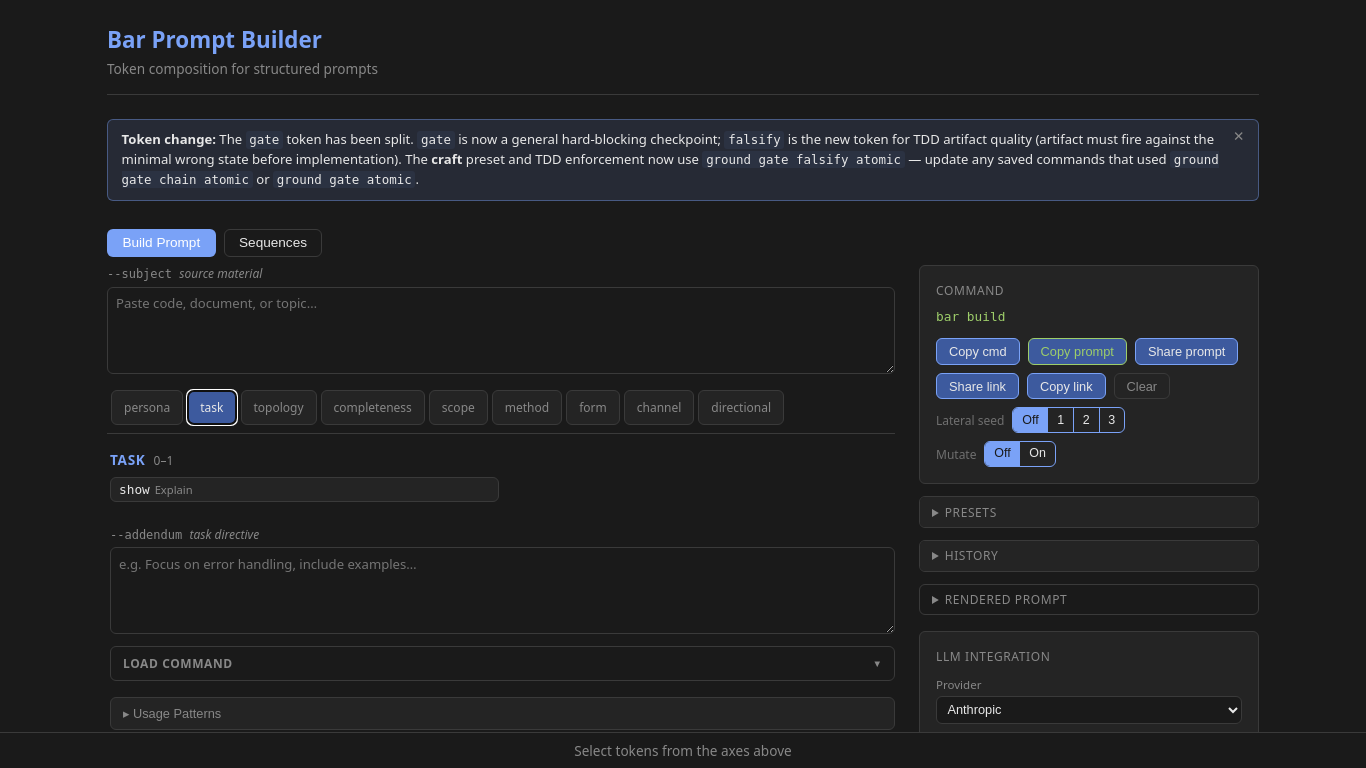
Test case: Page — Sequences mode › linear sequence shows pause indicator between steps requiring user input
The width and height of the screenshot is (1366, 768).
Click the button "Sequences" at (273, 243), box [224, 229, 322, 257]
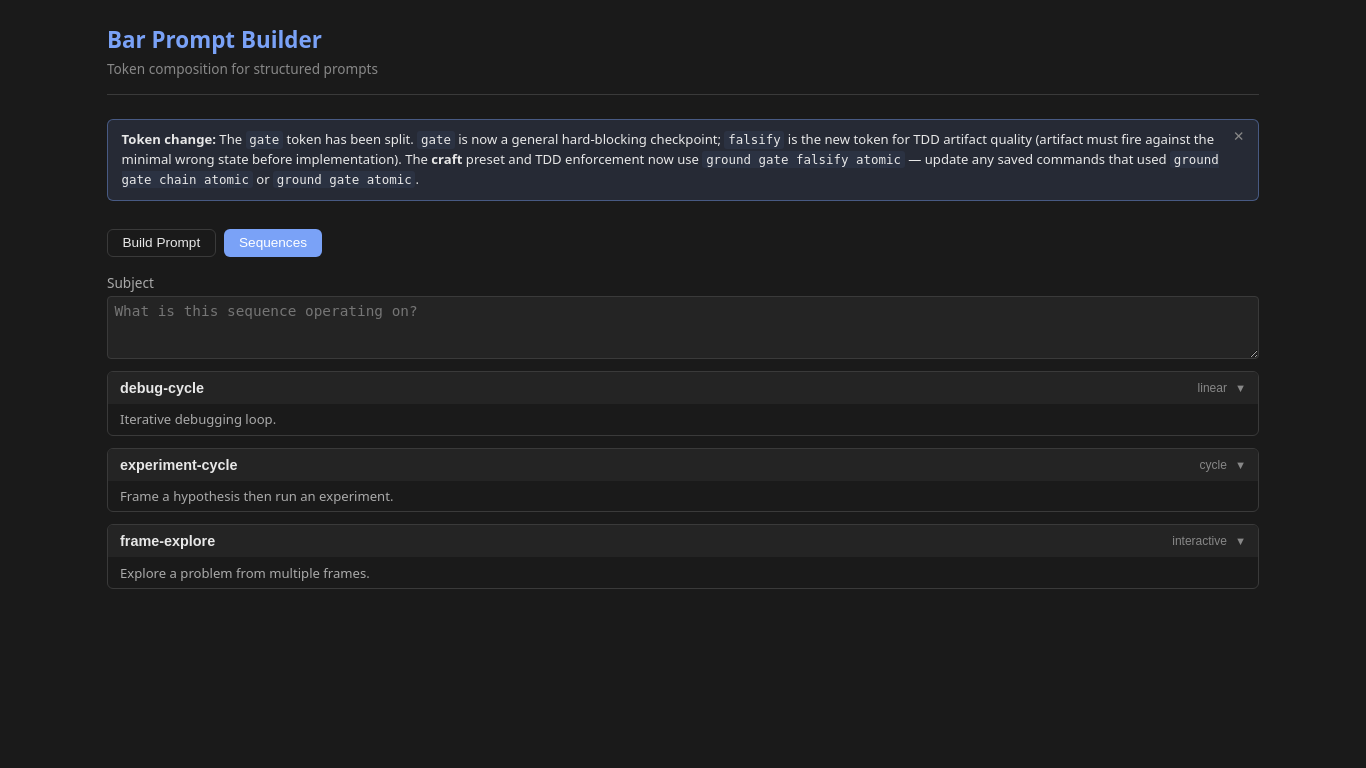
Click the button with class "seq-card-header" showing "debug-cycle linear ▼" at (162, 388), box [108, 372, 1258, 404]
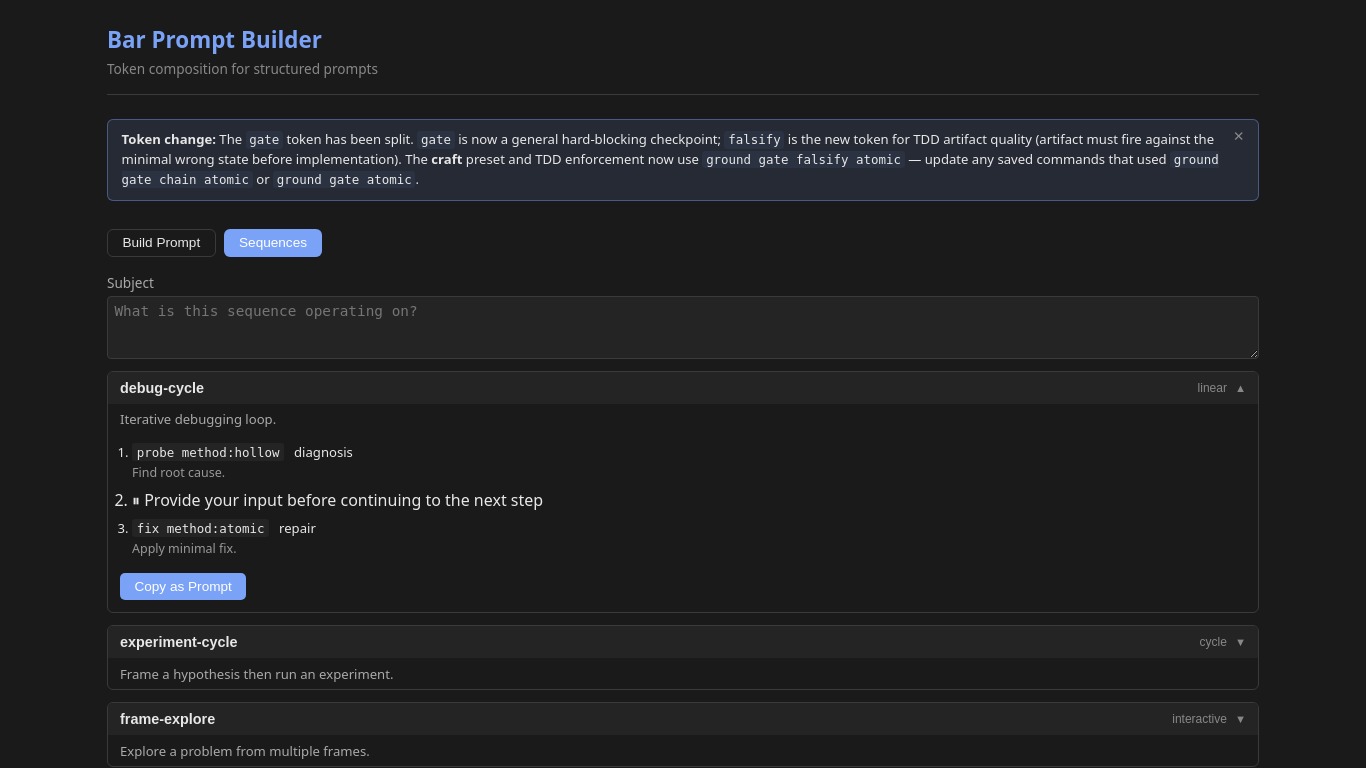
Expected: the text "⏸" is shown, [132, 489, 543, 511]
